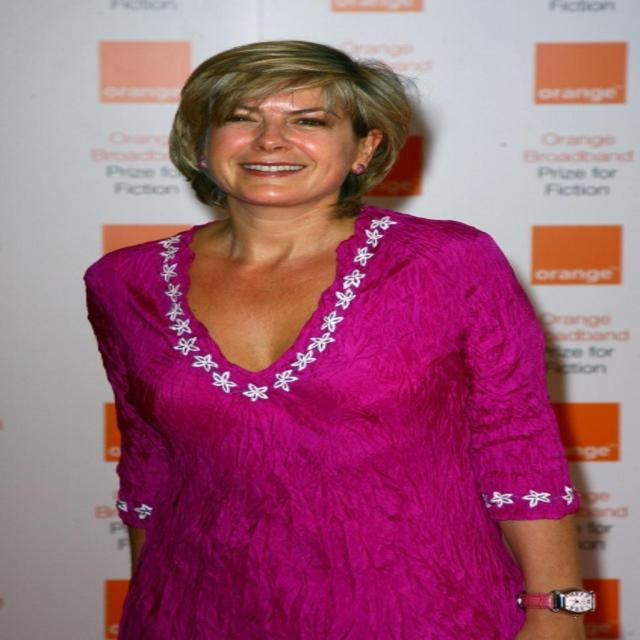Face: (202, 92, 376, 210)
